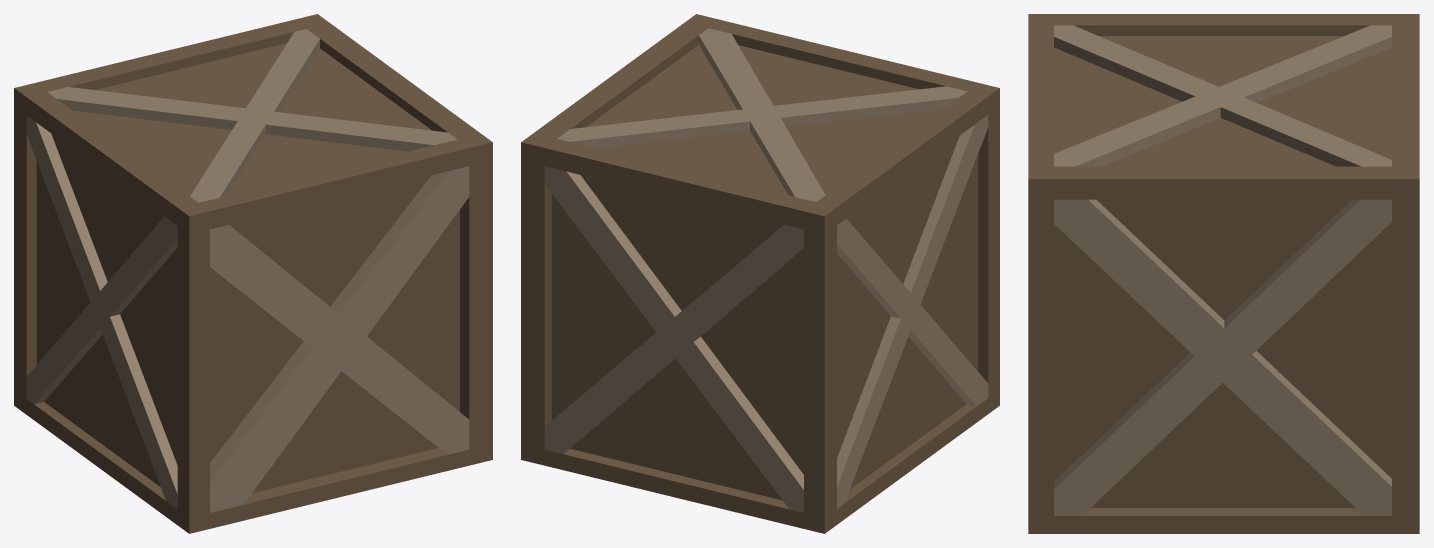
Rendered from Crate_.fbx.
3 views of the same model, side by side, from view 1: azimuth 30°, elevation 25°; view 2: azimuth 150°, elevation 25°; view 3: azimuth 270°, elevation 25° (orthographic). The views are drawn at different scales.
Visible parts, largest first — view 1: Cube; view 2: Cube; view 3: Cube.
Part boxes in pixels (bbox=[...]): Cube: bbox=[14, 14, 492, 533]; Cube: bbox=[521, 14, 999, 533]; Cube: bbox=[1028, 14, 1419, 533].
Size of the model in its own units: 200 by 200 by 200.
